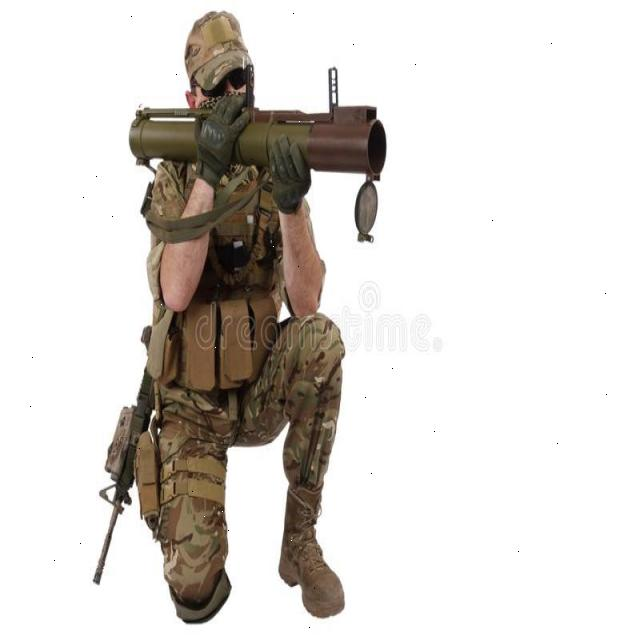bazooka: (128, 56, 397, 251)
